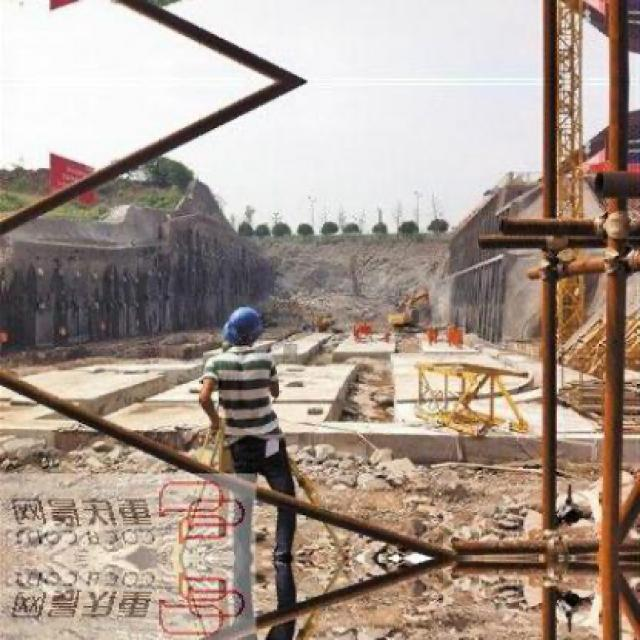helmet: (222, 304, 266, 350)
